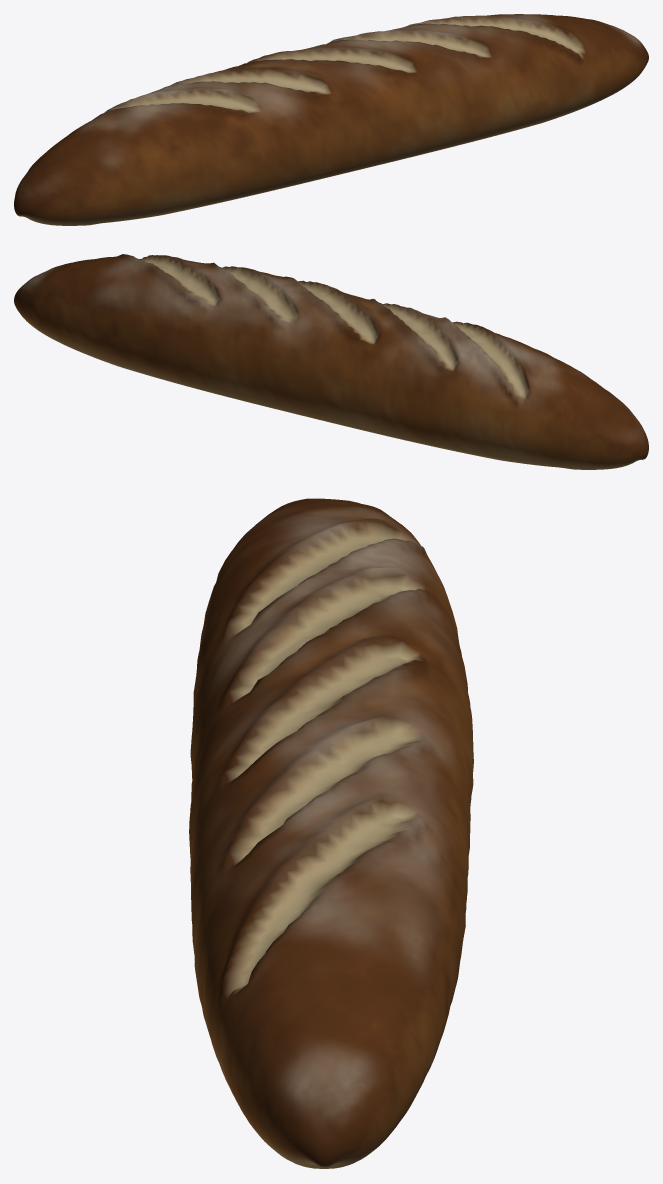
Rendered from roggenflit-gross.glb.
The picture shows the model from 3 angles, top to bottom: view 1: azimuth 30°, elevation 25°; view 2: azimuth 150°, elevation 25°; view 3: azimuth 270°, elevation 25°; orthographic projection. The views are drawn at different scales.
Visible parts, largest first — view 1: roggenflit-gross; view 2: roggenflit-gross; view 3: roggenflit-gross.
Boxes of the visible parts, x1,y1,x2,y2 form: roggenflit-gross: (14,14,648,225); roggenflit-gross: (14,254,648,469); roggenflit-gross: (189,498,473,1168).
Size of the model in its own units: 0.46 by 0.07 by 0.09.
